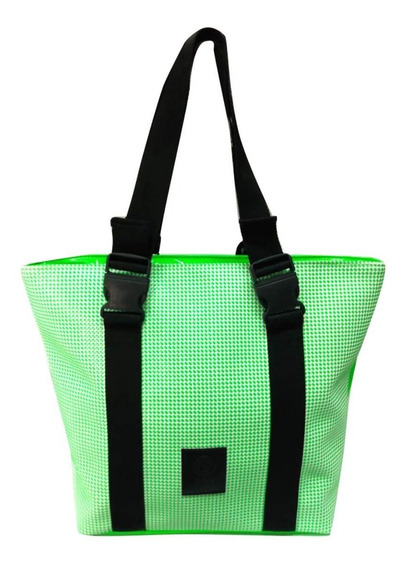cartera: (19, 24, 387, 541)
